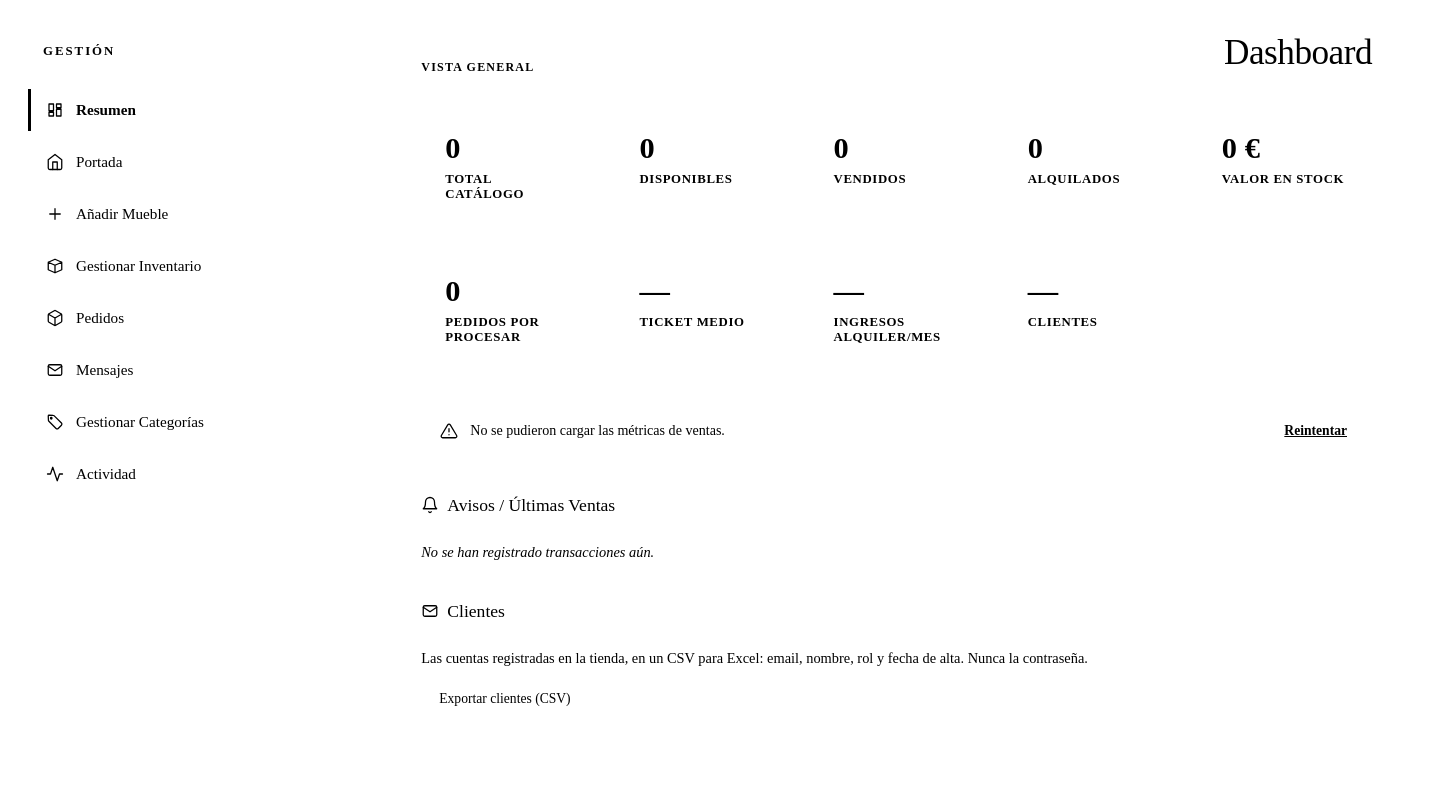
it: Modal de edición de categoría › el selector de general ofrece las generales menos ella misma
Click the button "Gestionar Categorías".
click(185, 422)  # box [28,401,341,443]
(page scrolled)
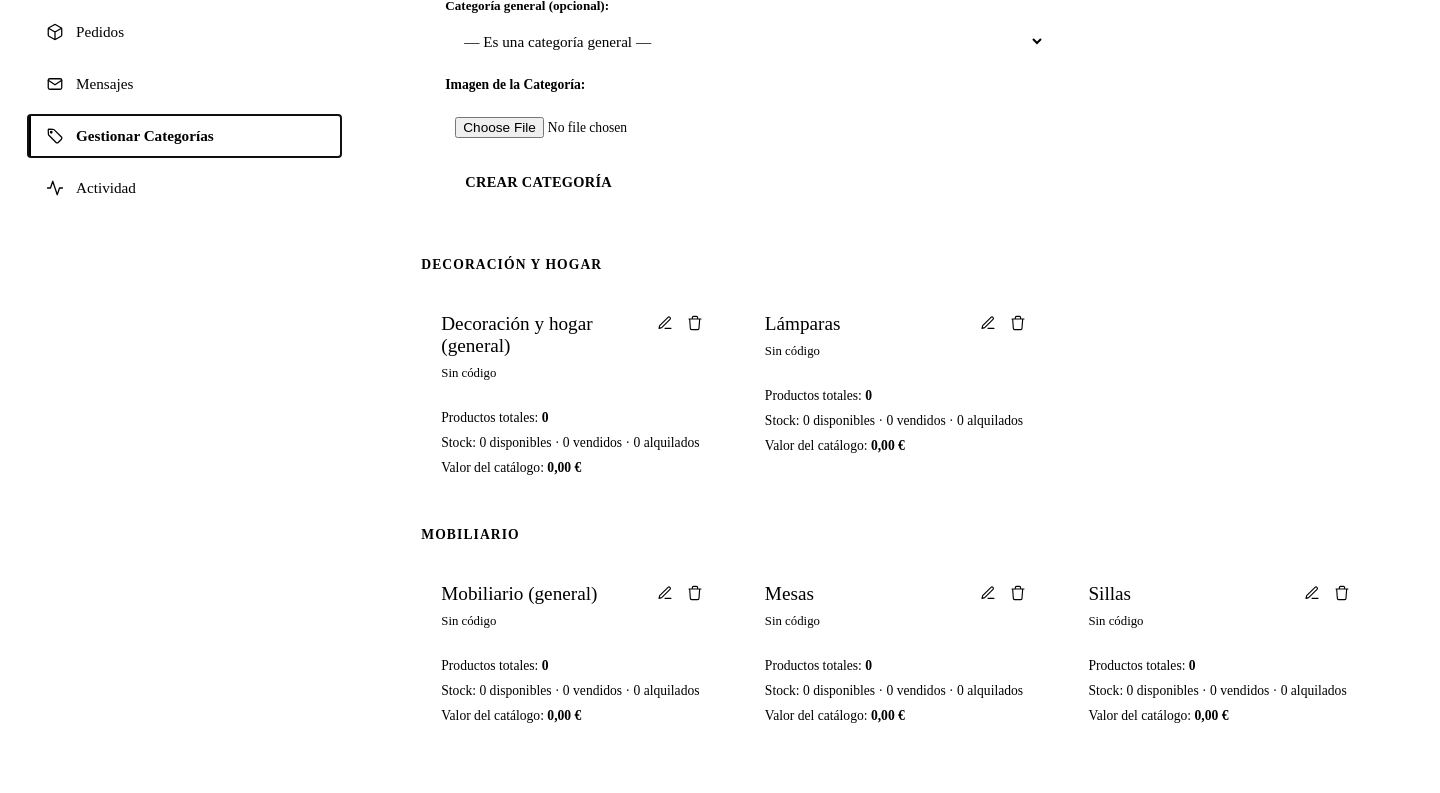
Click the 3rd button named "Editar".
click(665, 593)  # box [655,583,675,603]
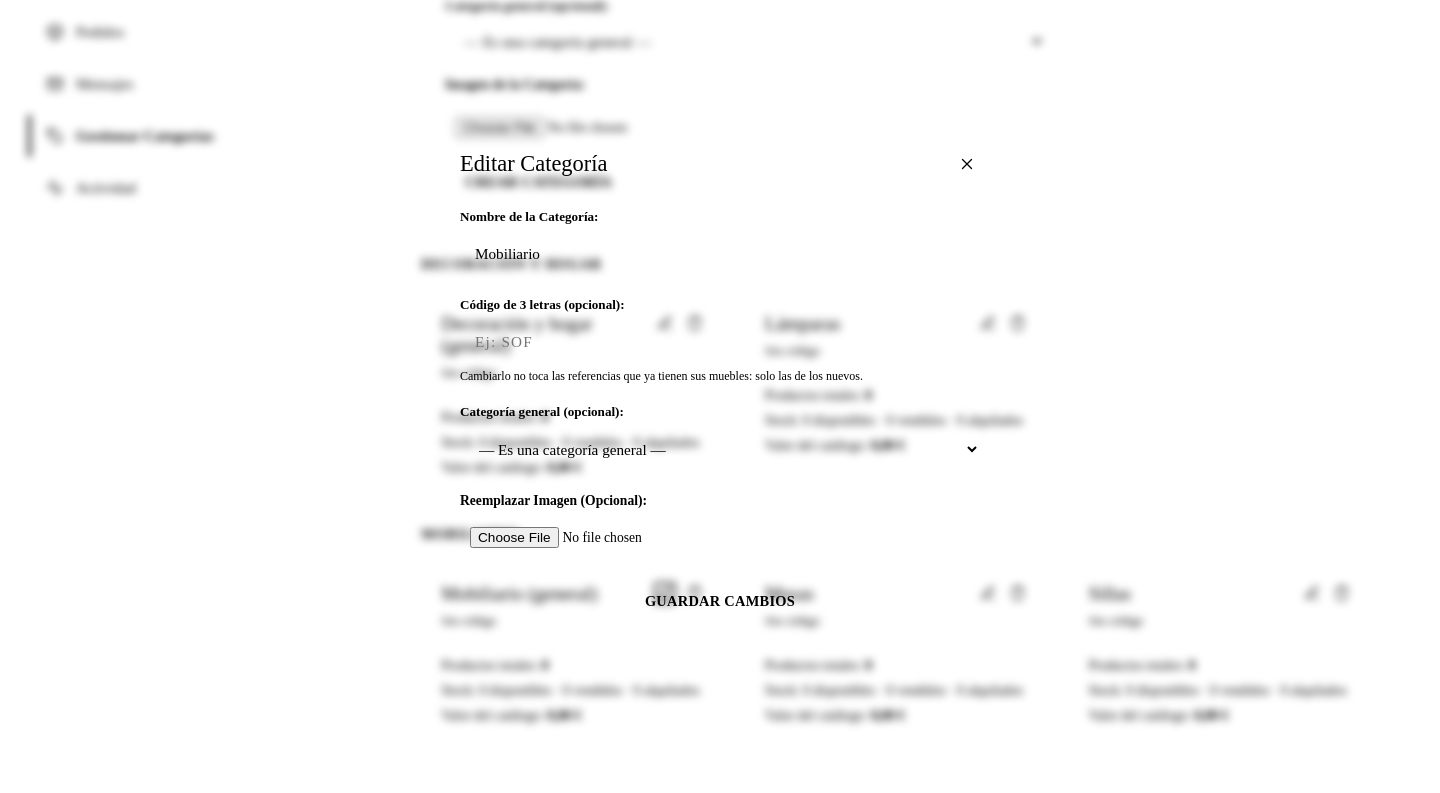
Result: the dropdown shows "— Es una categoría general —" at [460,426,980,473]
